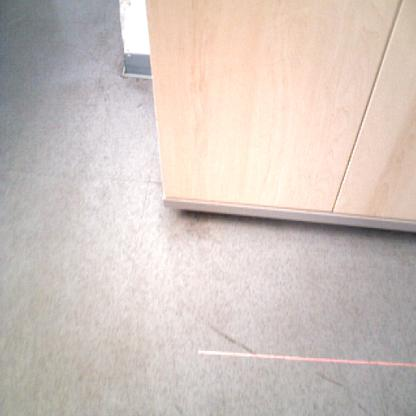mark: (209, 322, 256, 354), (314, 371, 342, 386), (357, 401, 371, 415), (174, 403, 185, 416), (136, 101, 144, 110)
